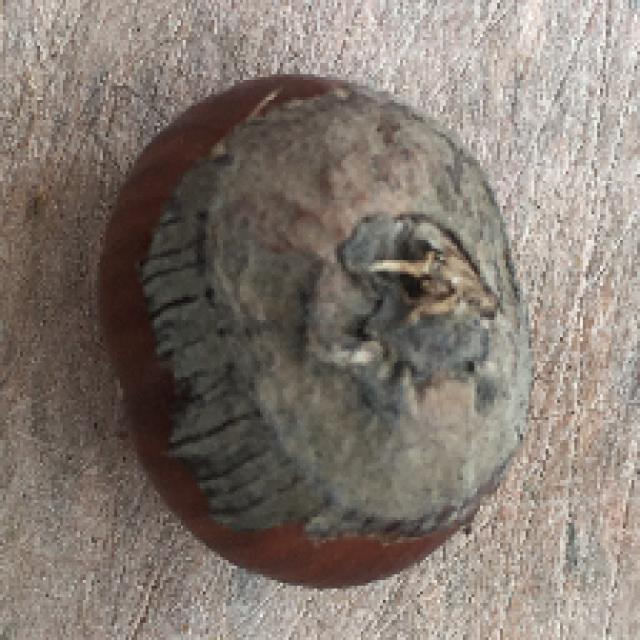damagedHazelnut: (80, 66, 554, 596)
